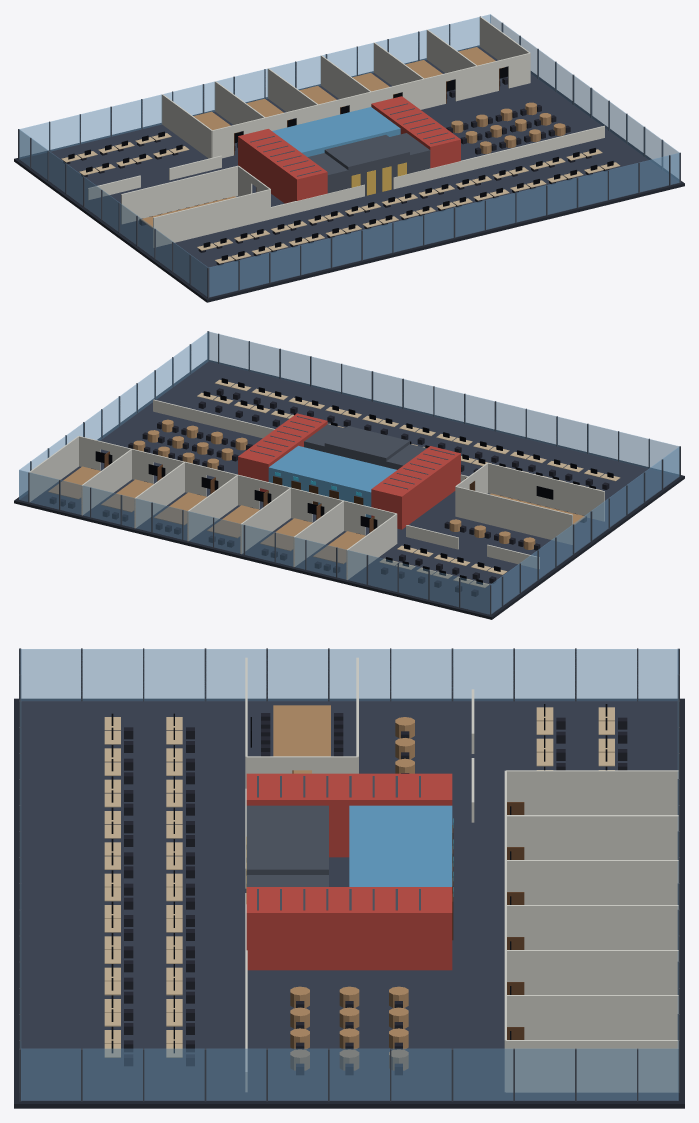
3 renders of one model, top to bottom at view 1: azimuth 30°, elevation 25°; view 2: azimuth 150°, elevation 25°; view 3: azimuth 270°, elevation 25°, orthographic. The views are drawn at different scales.
Parts seen in each view (by area): view 1: L9_floor_carpet, L9_glass, L9_wall, L9_core, L9_stair, L9_slab, L9_desk, L9_table, L9_wash, L9_chair, L9_screen, L9_lift; view 2: L9_glass, L9_floor_carpet, L9_wall, L9_core, L9_table, L9_stair, L9_slab, L9_chair, L9_wash, L9_desk, L9_screen, L9_door; view 3: L9_floor_carpet, L9_glass, L9_wall, L9_stair, L9_core, L9_desk, L9_slab, L9_wash, L9_table, L9_chair, L9_screen, L9_door.
Boxes of the visible parts, x1,y1,x2,y2 form: L9_floor_carpet: [19, 46, 679, 297]; L9_glass: [19, 14, 679, 296]; L9_wall: [88, 17, 604, 247]; L9_core: [18, 16, 680, 298]; L9_stair: [238, 96, 460, 203]; L9_slab: [14, 45, 684, 302]; L9_desk: [61, 133, 620, 263]; L9_table: [140, 47, 565, 228]; L9_wash: [272, 107, 400, 156]; L9_chair: [63, 49, 609, 265]; L9_screen: [68, 66, 613, 260]; L9_lift: [351, 162, 406, 195]; L9_glass: [19, 331, 679, 614]; L9_floor_carpet: [19, 361, 679, 614]; L9_wall: [28, 399, 604, 579]; L9_core: [28, 331, 680, 615]; L9_table: [48, 419, 585, 563]; L9_stair: [238, 413, 460, 529]; L9_slab: [14, 360, 684, 619]; L9_chair: [49, 388, 609, 596]; L9_wash: [268, 445, 396, 517]; L9_desk: [197, 379, 620, 587]; L9_screen: [95, 378, 613, 584]; L9_door: [104, 451, 474, 532]; L9_floor_carpet: [21, 700, 678, 1101]; L9_glass: [20, 649, 678, 1100]; L9_wall: [245, 657, 678, 1092]; L9_stair: [246, 773, 452, 970]; L9_core: [19, 648, 679, 1101]; L9_desk: [104, 707, 614, 1057]; L9_slab: [14, 698, 684, 1108]; L9_wash: [349, 805, 452, 886]; L9_table: [273, 705, 414, 1070]; L9_chair: [124, 713, 627, 1075]; L9_screen: [111, 704, 607, 1053]; L9_door: [292, 770, 524, 1039].
Bounding box in the file's own units: 46.6 × 3.37 × 32.6.
